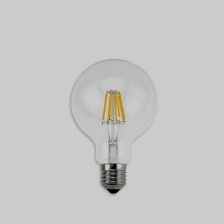light_bulb: (66, 52, 161, 199)
